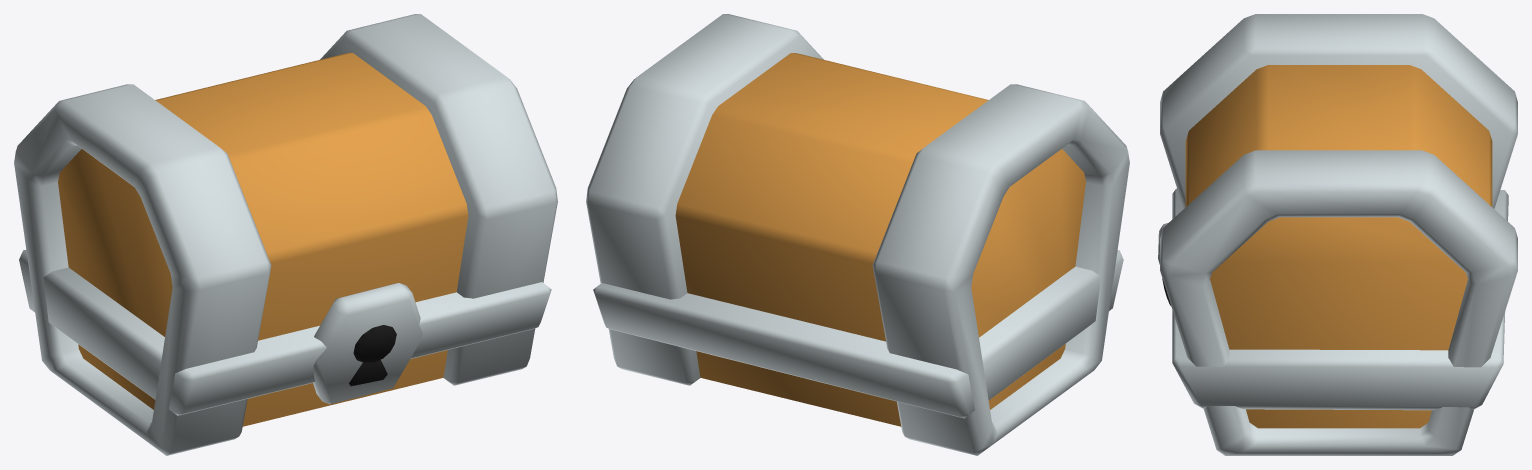
The model's file is Chest.fbx.
The picture shows the model from 3 angles, left to right: view 1: azimuth 30°, elevation 25°; view 2: azimuth 150°, elevation 25°; view 3: azimuth 270°, elevation 25°; orthographic projection. The views are drawn at different scales.
Parts seen in each view (by area): view 1: Chest; view 2: Chest; view 3: Chest.
Part boxes in pixels (x1,y1,x2,y2): Chest: [14, 14, 557, 455]; Chest: [586, 14, 1129, 455]; Chest: [1158, 14, 1517, 455].
Bounding box in the file's own units: 16.02 × 11.67 × 13.93.
